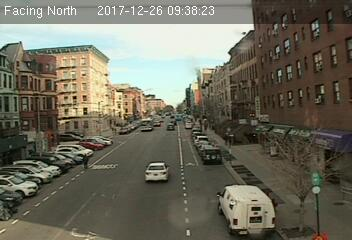car: (144, 161, 169, 182), (201, 146, 224, 163)
truck: (215, 183, 279, 232)
